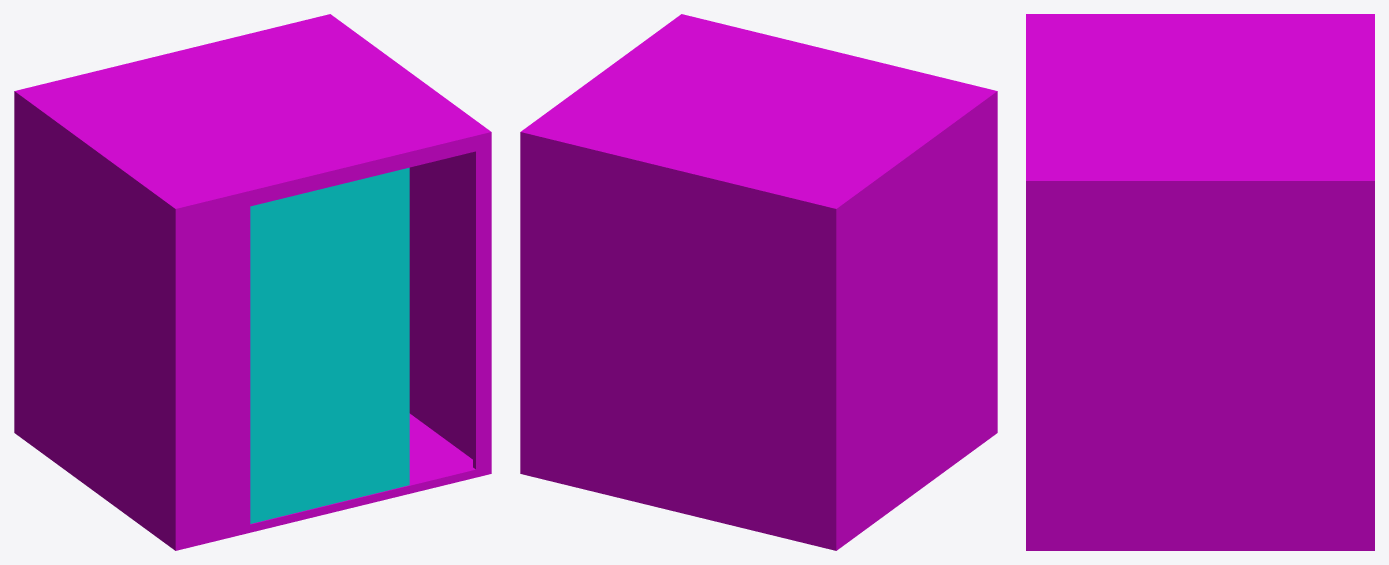
The model's file is elevator.fbx.
3 views of the same model, side by side, from view 1: azimuth 30°, elevation 25°; view 2: azimuth 150°, elevation 25°; view 3: azimuth 270°, elevation 25° (orthographic). The views are drawn at different scales.
Visible parts, largest first — view 1: pCube5, pCube7; view 2: pCube5; view 3: pCube5.
Boxes of the visible parts, left/top/right/bottom form: pCube5: left=14, top=14, right=491, bottom=550; pCube7: left=250, top=167, right=409, bottom=523; pCube5: left=520, top=14, right=997, bottom=550; pCube5: left=1026, top=14, right=1374, bottom=550.
Size of the model in its own units: 13.41 by 13.87 by 11.85.
